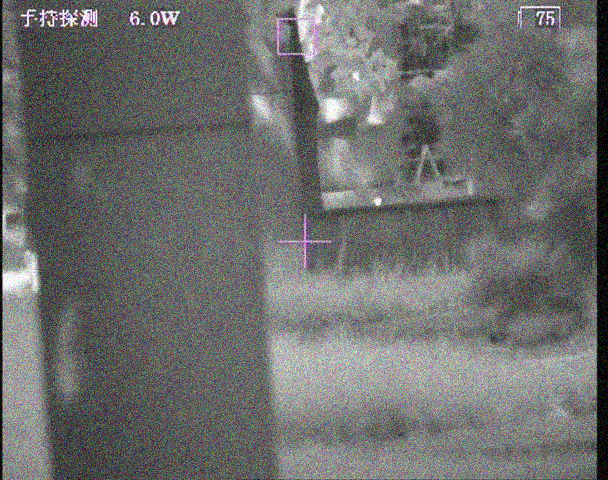my: (373, 197, 384, 207)
